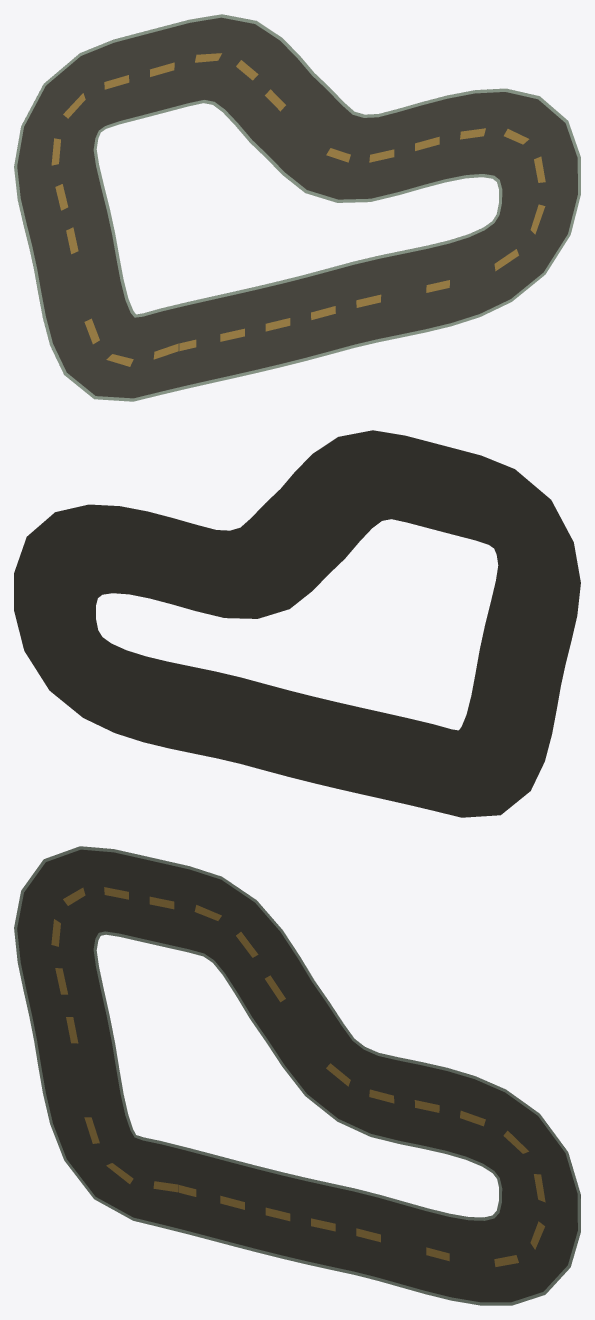
Rendered from track.obj.
The picture shows the model from 3 angles, top to bottom: view 1: azimuth 30°, elevation 25°; view 2: azimuth 150°, elevation 25°; view 3: azimuth 330°, elevation 25°; orthographic projection.
Size of the model in its own units: 7.27 by 4.54 by 0.002.
